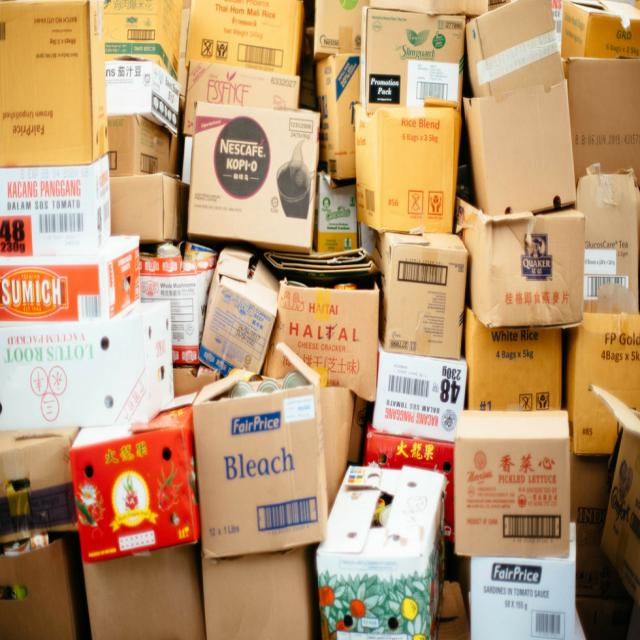cardboard: (192, 345, 325, 640), (315, 0, 462, 229), (0, 238, 174, 427), (184, 0, 314, 249), (73, 416, 204, 640), (454, 409, 580, 640), (462, 0, 574, 211), (322, 461, 443, 640), (105, 0, 186, 240), (0, 0, 112, 166), (0, 425, 79, 637), (264, 257, 382, 398), (464, 195, 584, 326), (561, 0, 640, 176), (358, 348, 462, 476), (173, 242, 275, 368), (372, 224, 464, 359), (0, 156, 119, 256), (589, 375, 640, 606), (464, 309, 564, 412), (569, 305, 640, 450), (577, 159, 640, 309)
